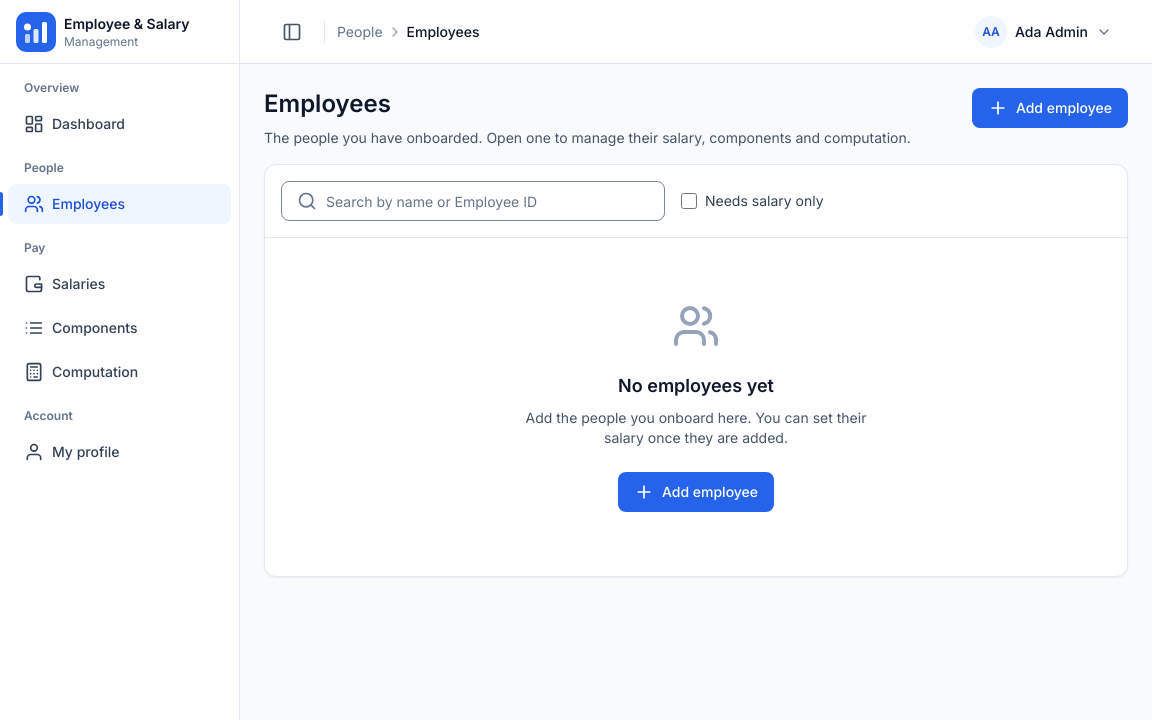
Test case: UserMenu › opens on click, shows who is signed in, and puts focus on the first item
Expected: the heading "Employees" is shown, [264, 89, 391, 118]
Click the button with aria-label "Account menu, Ada Admin". click: (1046,32)
box: [971, 12, 1120, 52]
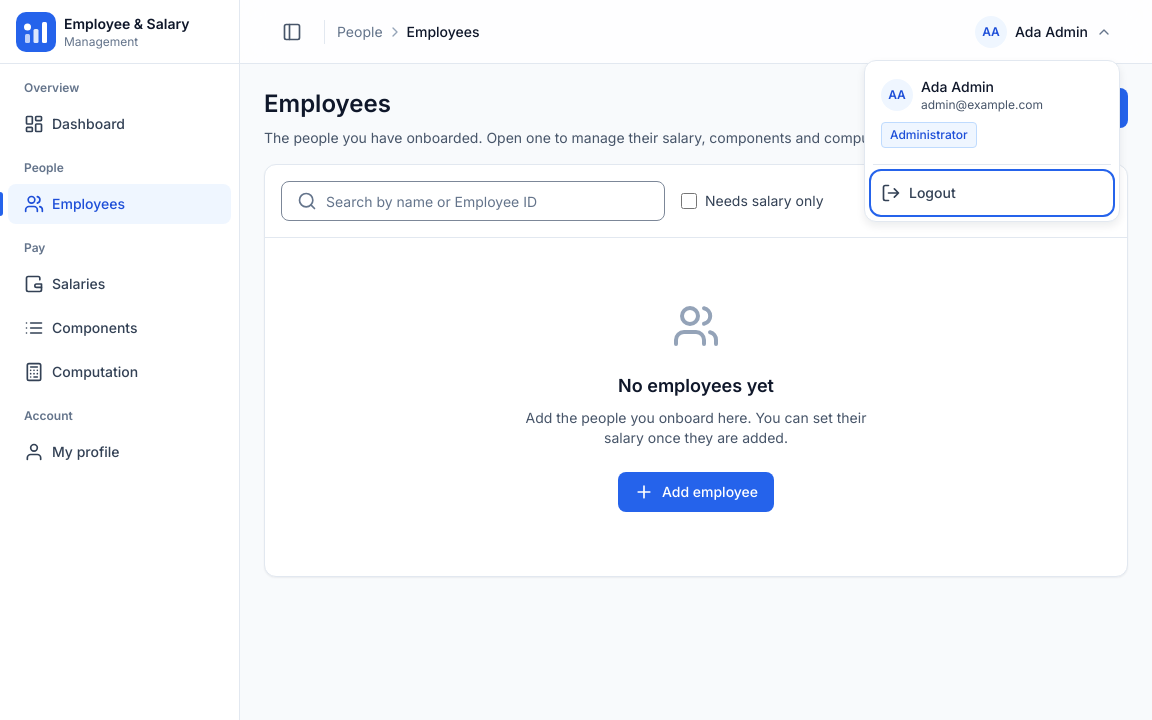
Now the button with aria-label "Account menu, Ada Admin" is expanded, box [971, 12, 1120, 52]
Now the text "admin@example.com" is shown, box [921, 96, 1043, 112]
Now the text "Administrator" is shown, box [881, 122, 977, 148]
